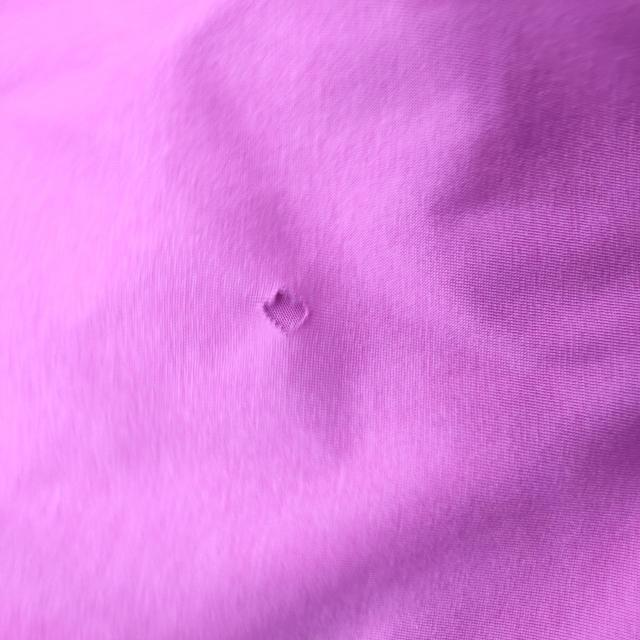other: (236, 274, 344, 365)
